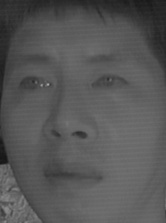eye: (15, 70, 54, 95), (92, 68, 127, 94)
mouth: (38, 155, 109, 195)
